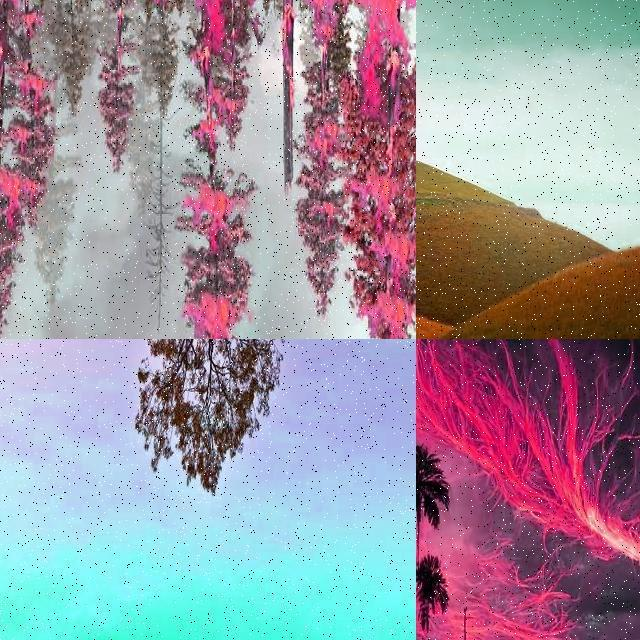tree: (118, 338, 286, 510), (182, 1, 260, 340), (416, 355, 503, 640), (344, 1, 416, 340), (0, 1, 60, 340), (0, 0, 52, 336), (298, 1, 347, 323), (31, 136, 77, 316), (146, 98, 178, 338), (102, 0, 138, 176), (416, 42, 459, 132), (147, 0, 180, 116), (57, 0, 91, 112), (416, 235, 444, 307), (1, 0, 20, 84), (0, 0, 14, 88), (33, 0, 53, 38), (368, 339, 386, 365)
